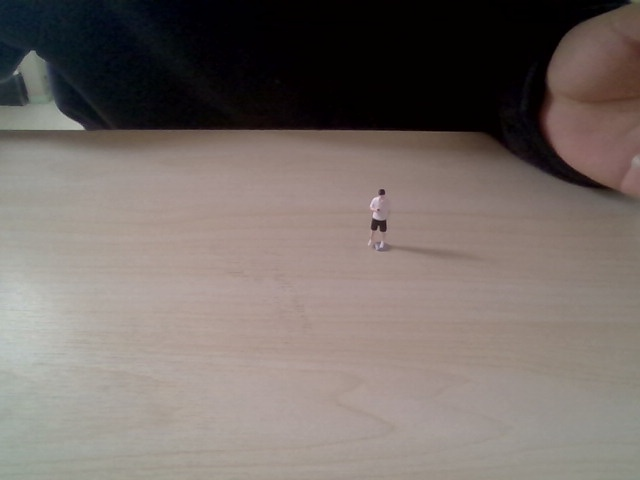walk: (364, 182, 393, 253)
